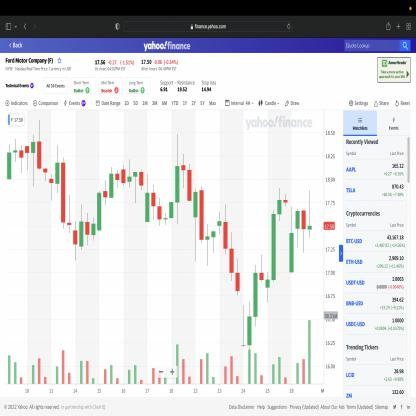Bearish: 3 Black Crows: (222, 199, 241, 298)
Bearish: Tweezer Top: (294, 207, 307, 255)
Bullish: 3 White Soldiers: (264, 185, 283, 306)
Bullish: Hammer: (42, 142, 61, 203)
Bullish: Inverted Hammer: (234, 255, 253, 349)
